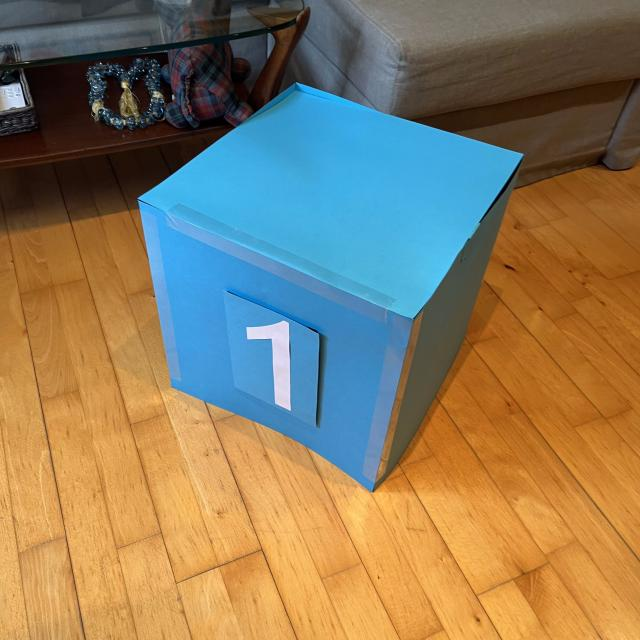box: (132, 79, 526, 493)
